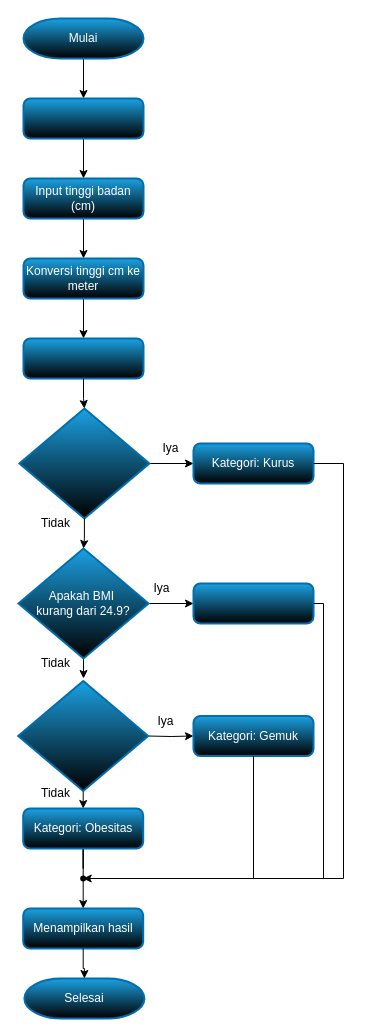
Image size: 369x1036. Some labels were removed from this diagram. The shapes that lost their labels are listed below. From the top down, each one's centre as x and y in pixels, then its label:
[83,118]: Input berat badan (kg)
[83,358]: Hitung BMI berat / (tinggiMeter²)
[84,463]: Apakah BMI kurang dari 18.5?
[253,603]: Kategori: Normal
[83,736]: Apakah BMI kurang dari 29.9?
